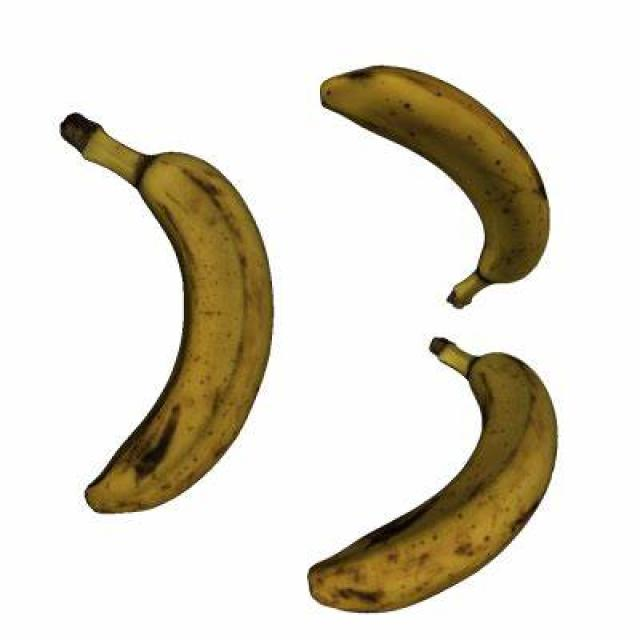Banana: (51, 112, 279, 522), (309, 335, 563, 622), (325, 70, 552, 309)
